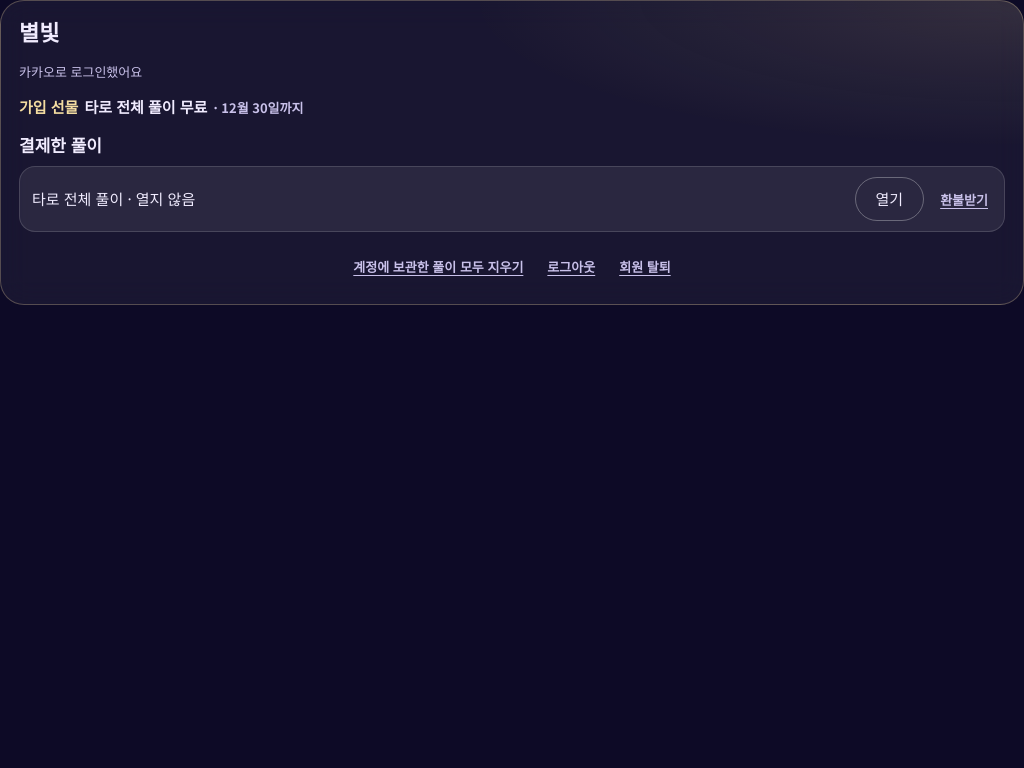
Test: AccountPanel › sends one refund however often 전액 환불받기 is tapped while it runs
Step 1. Click the button "환불받기" → (964, 199), box top-left (936, 177), bottom-right (992, 221)
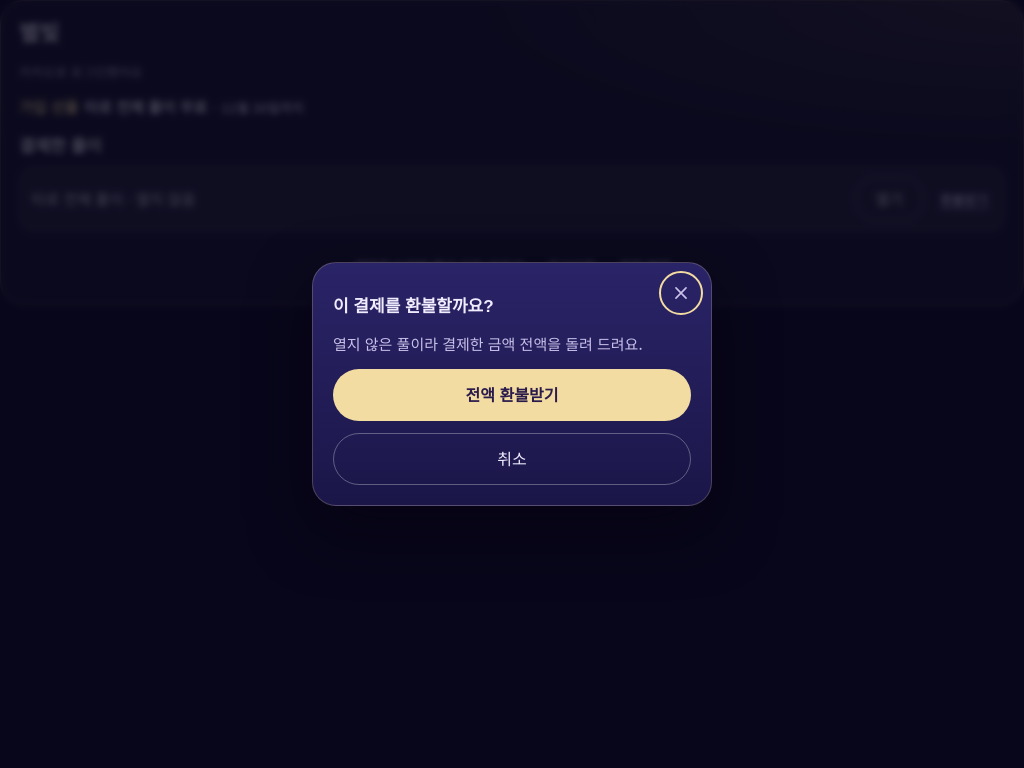
Step 2. Click the button "전액 환불받기" → (512, 395), box top-left (333, 369), bottom-right (691, 421)
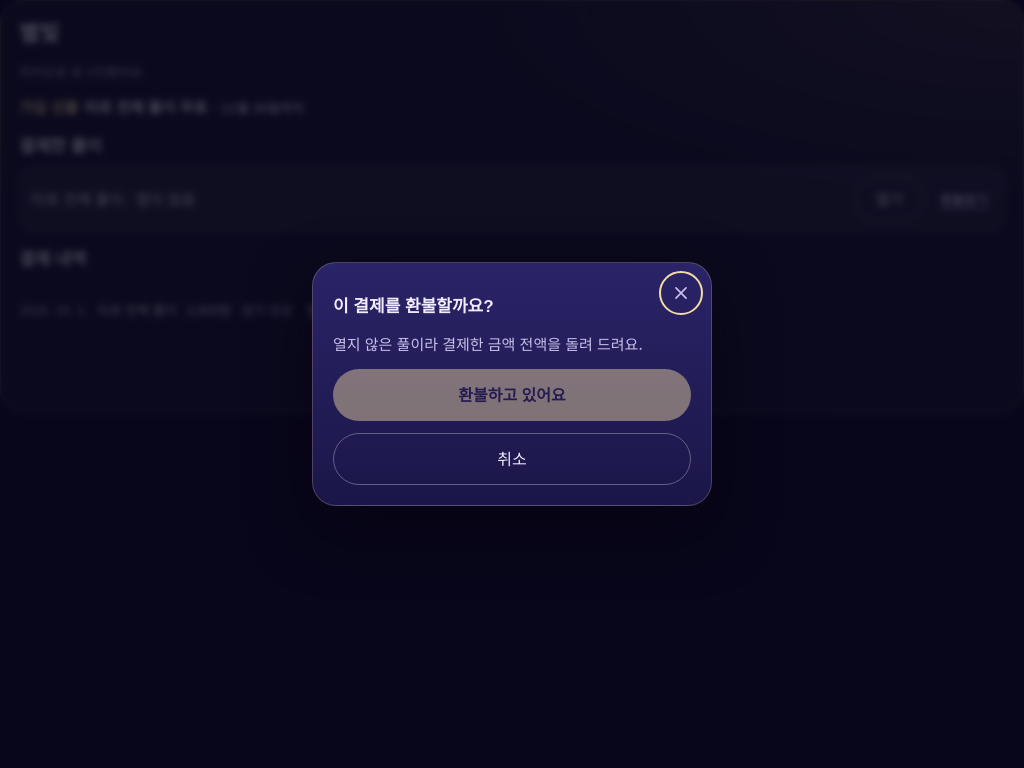
Step 3. Click the button named "전액 환불받기" → (512, 395), box top-left (333, 369), bottom-right (691, 421)
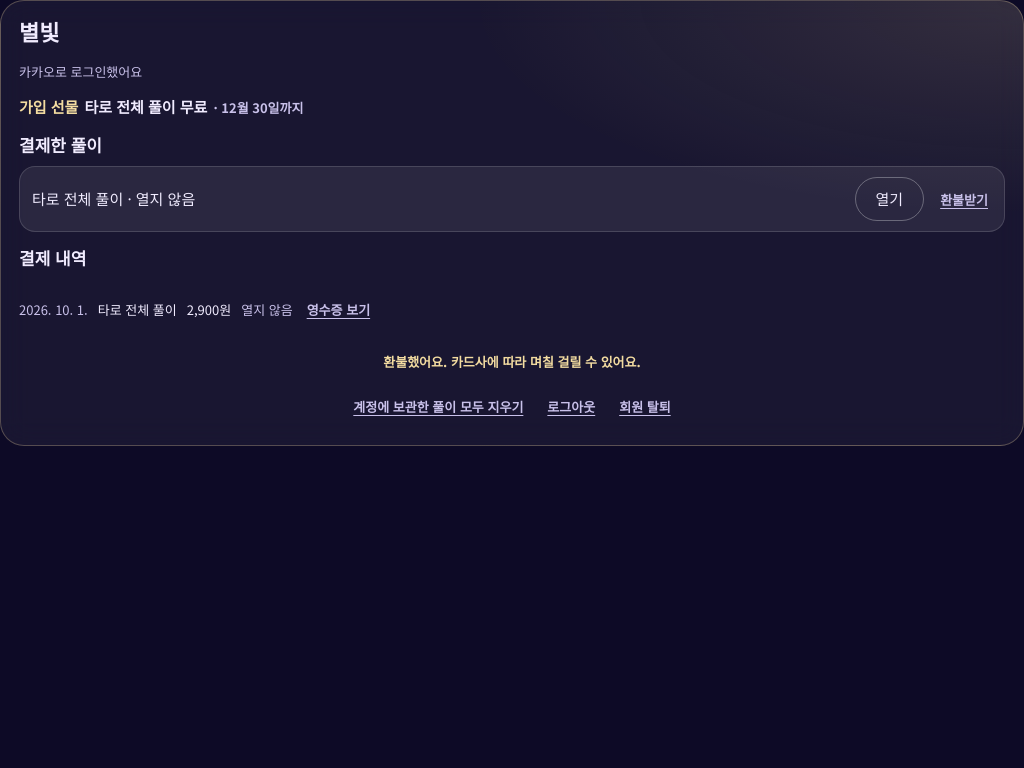
expect the text "환불했어요. 카드사에 따라 며칠 걸릴 수 있어요." is shown: met, box top-left (383, 352), bottom-right (641, 371)
